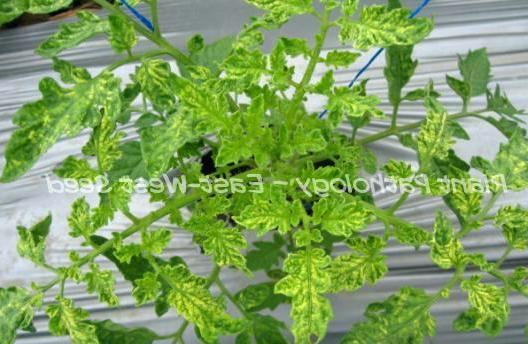Tomato leaf yellow virus: (1, 68, 104, 186), (165, 74, 265, 159), (153, 274, 258, 344), (331, 281, 437, 344), (335, 0, 432, 59), (282, 245, 334, 344), (183, 198, 249, 273), (2, 210, 67, 275), (32, 12, 120, 59), (406, 111, 462, 178), (143, 100, 193, 168), (326, 244, 392, 295), (483, 121, 528, 193), (49, 293, 110, 344), (454, 284, 507, 336), (208, 0, 321, 24), (310, 196, 372, 237), (235, 195, 296, 236), (427, 210, 465, 271), (328, 85, 383, 125), (493, 196, 528, 257), (63, 199, 101, 247)
